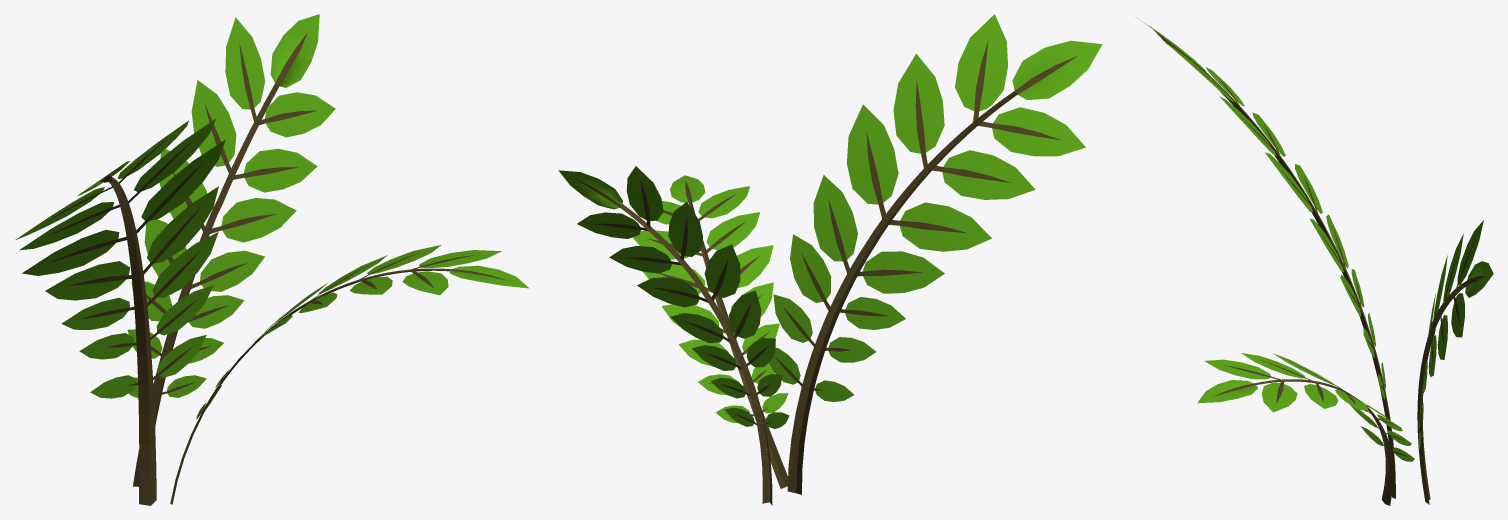
The model's file is Plant01.FBX.
The picture shows the model from 3 angles, left to right: view 1: azimuth 30°, elevation 25°; view 2: azimuth 150°, elevation 25°; view 3: azimuth 270°, elevation 25°; orthographic projection. The views are drawn at different scales.
Visible parts, largest first — view 1: Plane003; view 2: Plane003; view 3: Plane003.
Boxes of the visible parts, x1,y1,x2,y2 form: Plane003: (15,14,528,505); Plane003: (558,14,1102,505); Plane003: (1136,17,1493,505).
Size of the model in its own units: 76.25 by 71.46 by 56.32.
